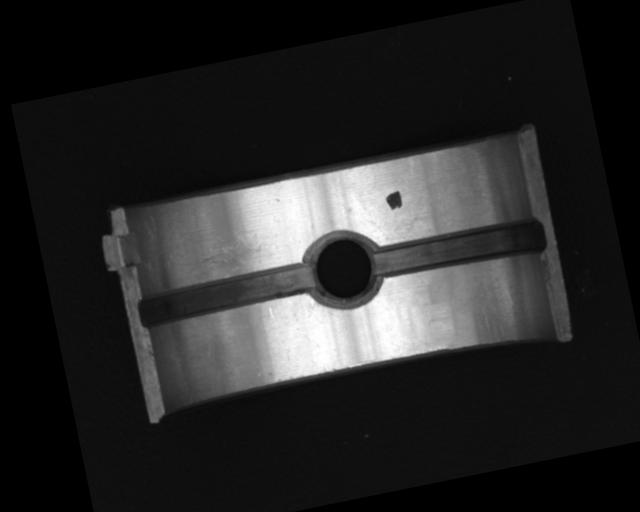blot: (384, 189, 404, 212)
gap: (134, 259, 320, 330), (372, 213, 548, 282)
hole: (302, 225, 387, 312)
nick: (267, 304, 291, 363)
scratch: (167, 229, 272, 287)
